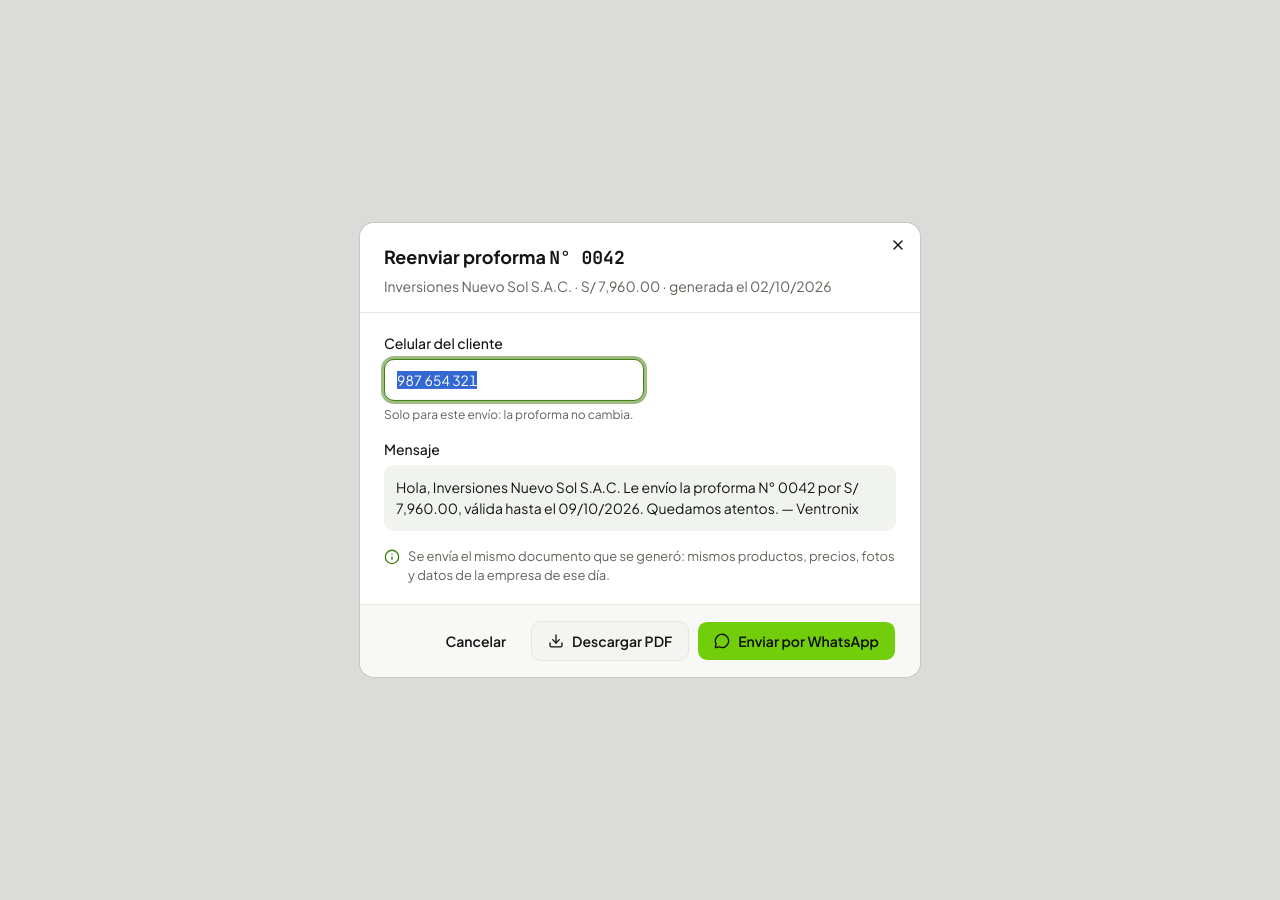
Test: ResendDialog › con WhatsApp vinculado la reenvía al celular escrito
Clear the field labelled "Celular del cliente" at (514, 380), box [384,359,644,401]
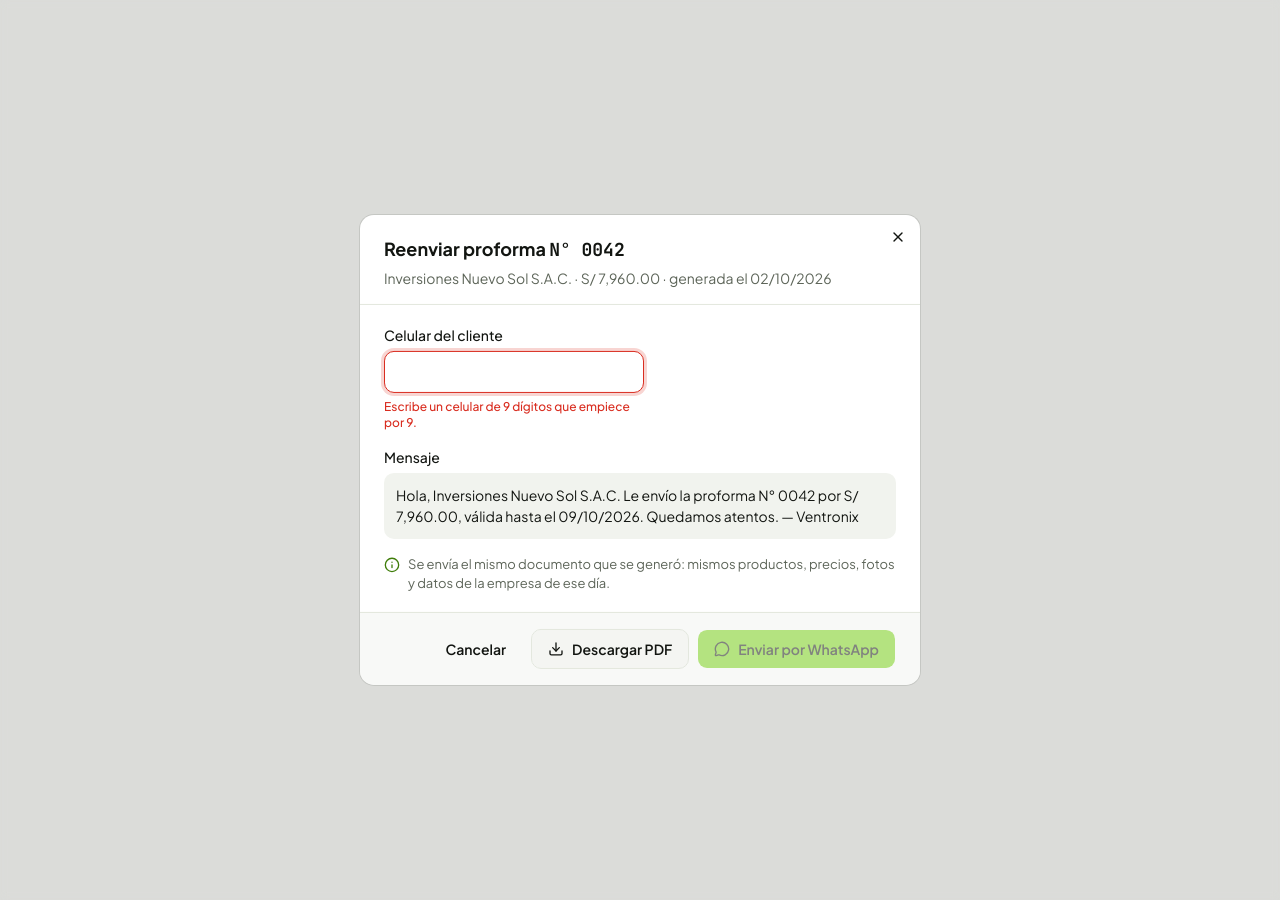
Type "911 222 333" into the field labelled "Celular del cliente" at (514, 372), box [384,351,644,393]
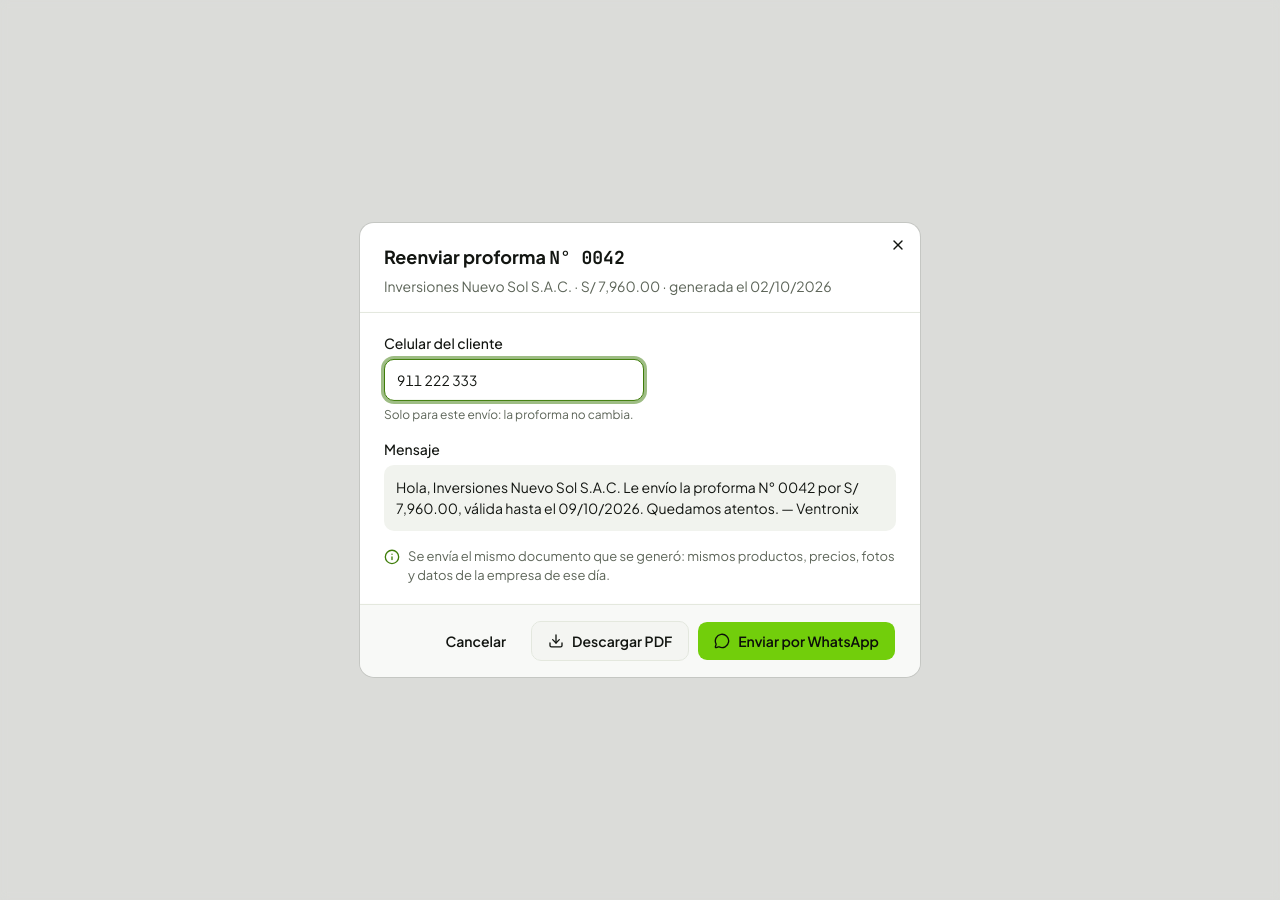
Check: the button "Enviar por WhatsApp" is enabled
Click the button "Enviar por WhatsApp" at (797, 641), box [697,621,896,661]
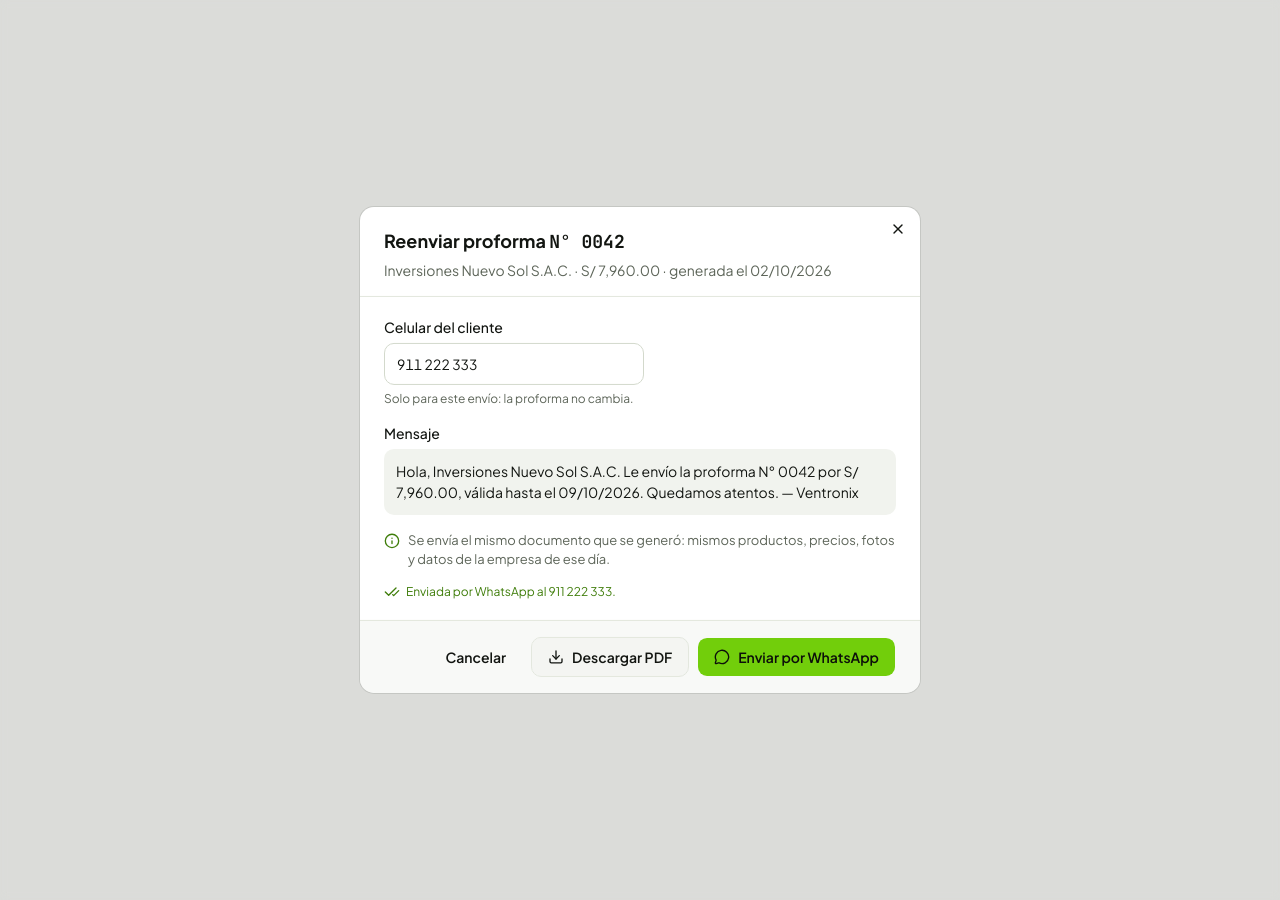
Check: the text "Enviada por WhatsApp al 911 222 333." is shown, box [384,584,616,600]
